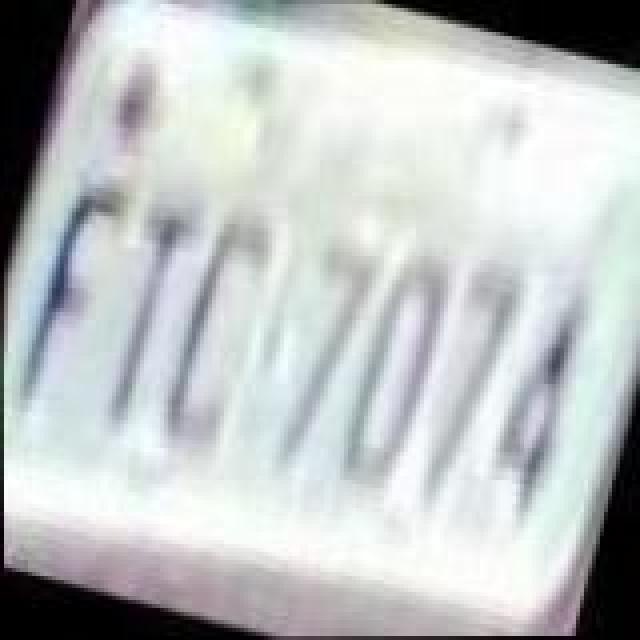4: (470, 274, 598, 550)
7: (400, 240, 536, 520), (254, 224, 386, 492)
C: (152, 196, 284, 464)
F: (2, 160, 130, 436)
O: (328, 234, 456, 502)
T: (84, 198, 208, 446)
